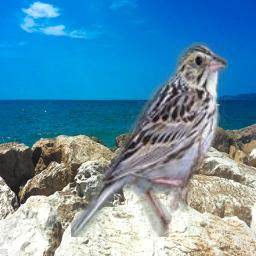Sparrow: (71, 42, 228, 237)
